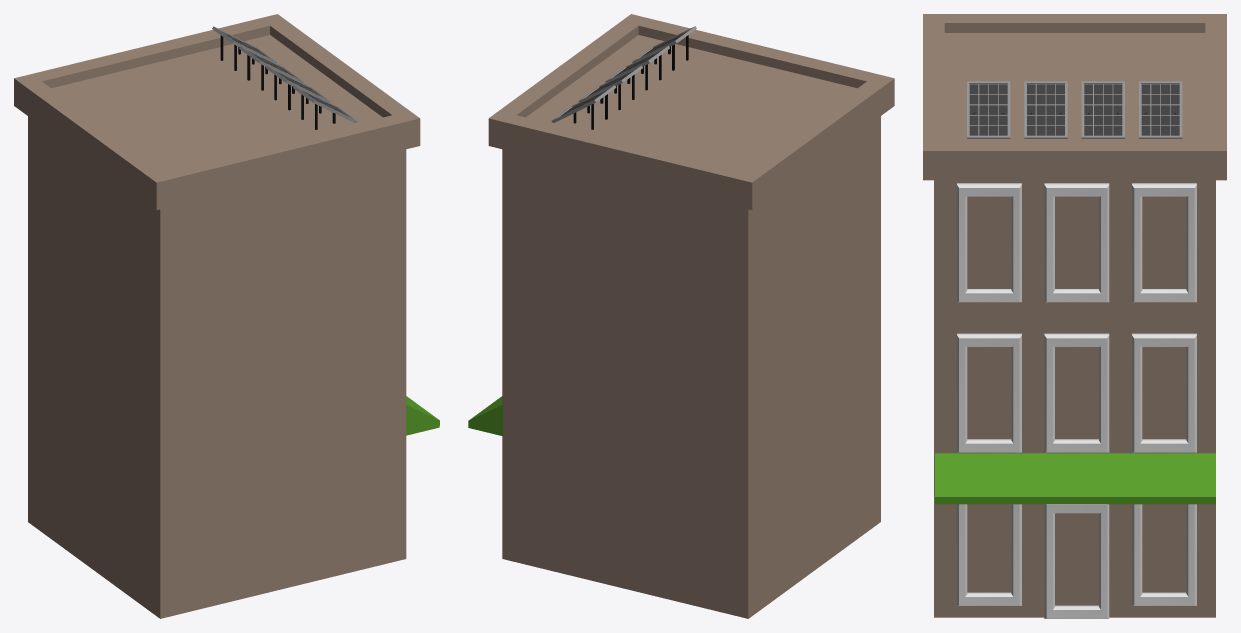
The model's file is apt4.FBX.
The picture shows the model from 3 angles, left to right: view 1: azimuth 30°, elevation 25°; view 2: azimuth 150°, elevation 25°; view 3: azimuth 270°, elevation 25°; orthographic projection. The views are drawn at different scales.
Visible parts, largest first — view 1: Box002, Cylinder002; view 2: Box002, Cylinder002; view 3: Box002, Cylinder002, Rectangle012, Rectangle015, Rectangle011, Rectangle013, Rectangle014, Rectangle016, Rectangle009, Rectangle008, Rectangle010, Box003 (+3 smaller).
Part boxes in pixels (x1,y1,x2,y2): Box002: (14, 14, 420, 618); Cylinder002: (406, 396, 439, 435); Box002: (488, 14, 894, 618); Cylinder002: (468, 396, 503, 436); Box002: (923, 14, 1226, 617); Cylinder002: (935, 453, 1215, 504); Rectangle012: (1044, 183, 1109, 302); Rectangle015: (1044, 333, 1109, 452); Rectangle011: (1132, 183, 1196, 302); Rectangle013: (957, 183, 1021, 302); Rectangle014: (1132, 333, 1196, 452); Rectangle016: (957, 333, 1021, 452); Rectangle009: (1044, 504, 1109, 618); Rectangle008: (1132, 504, 1196, 605); Rectangle010: (957, 504, 1021, 605); Box003: (967, 81, 1010, 138).
Bounding box in the file's own units: 129 × 200 × 111.
